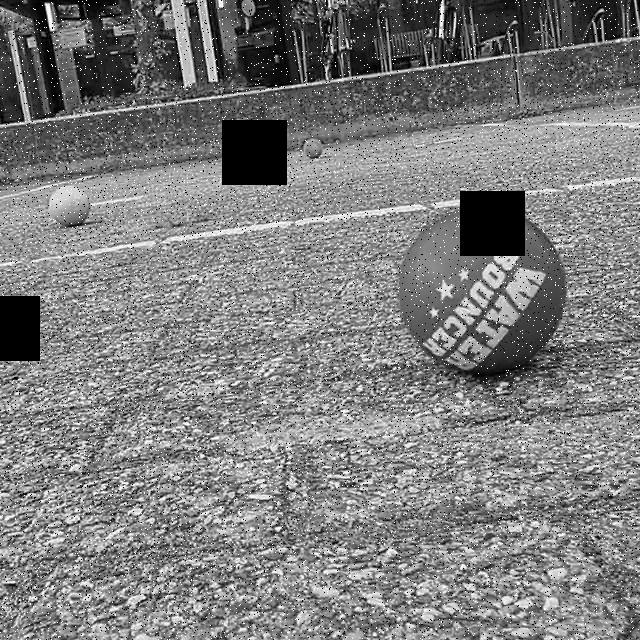ball: (42, 184, 92, 231), (299, 137, 328, 159)
